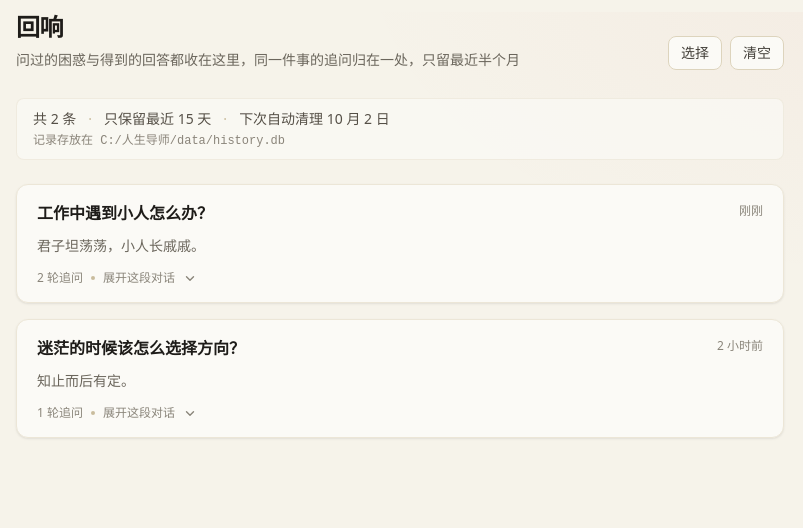
Test case: 回响的勾选删除 › 退出选择会把已勾的清掉
This screenshot has width=803, height=528.
Click the button "选择" at (695, 53), box [668, 36, 722, 70]
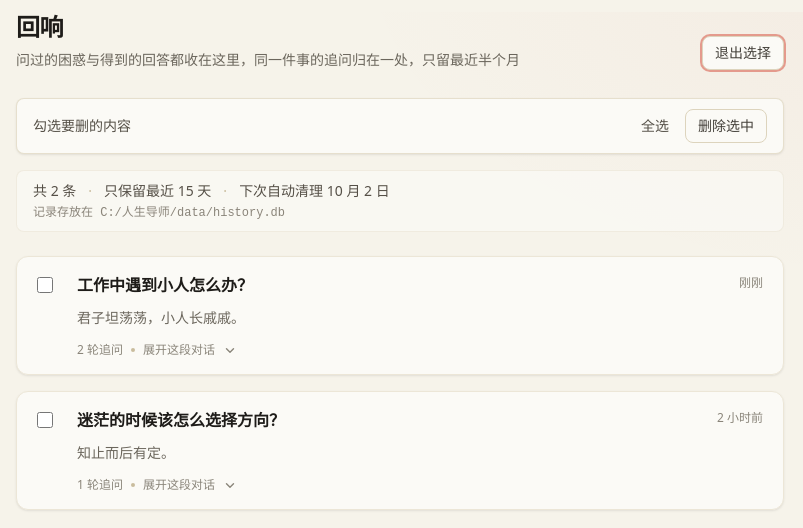
Click the checkbox named "勾选这段对话：工作中遇到小人怎么办？" at (45, 285), box [37, 277, 53, 293]
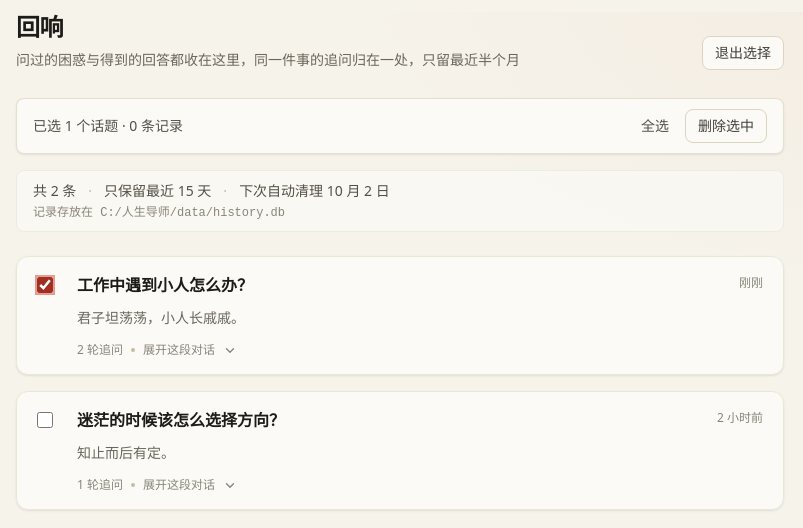
Expected: the text "已选 1 个话题 · 0 条记录" is shown, [33, 116, 183, 135]
Click the button "退出选择" at (743, 53), box [702, 36, 784, 70]
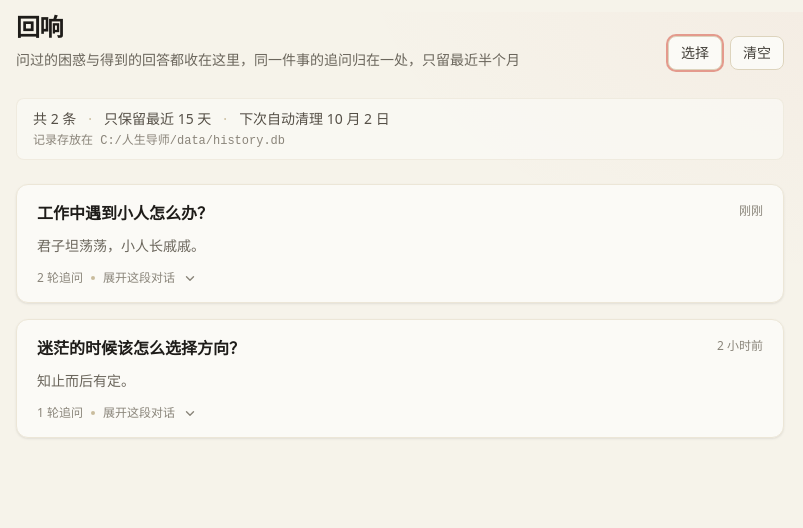
Expected: no checkboxes are shown
Click the button "选择" at (695, 53), box [668, 36, 722, 70]
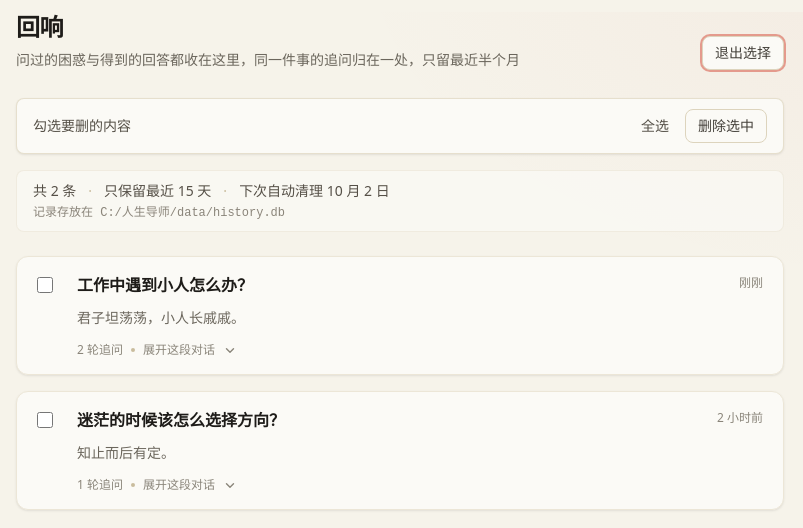
Expected: the text "勾选要删的内容" is shown, [33, 116, 131, 135]
